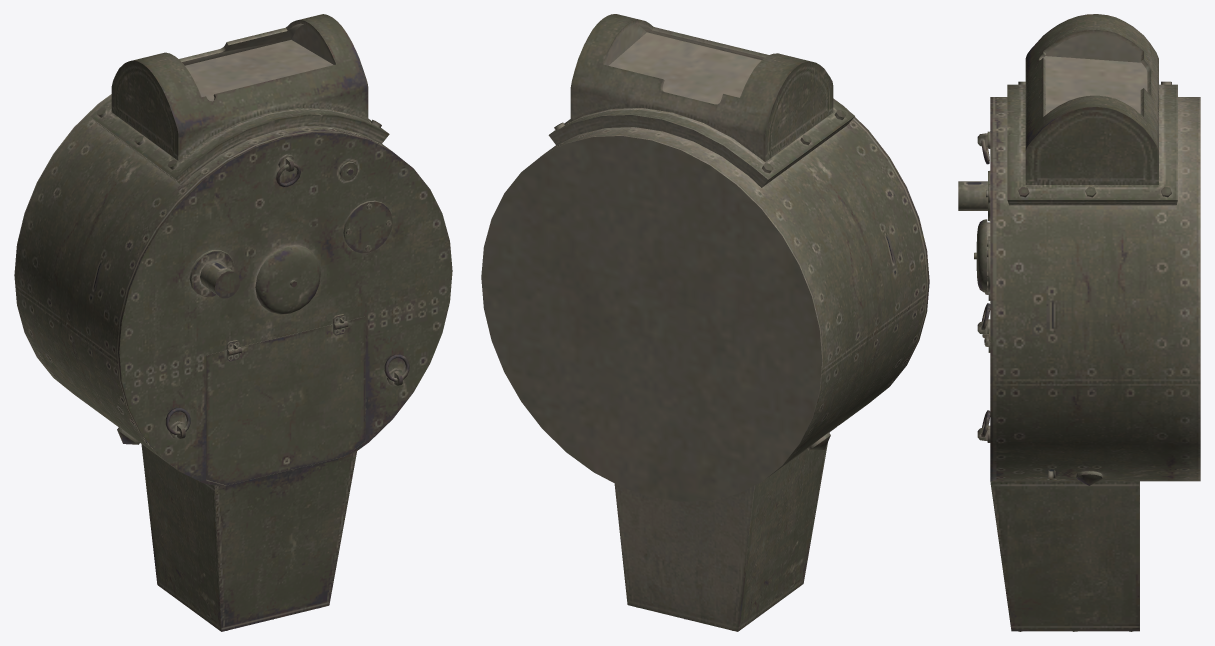
The model's file is Turret_02.glb.
3 renders of one model, left to right at view 1: azimuth 30°, elevation 25°; view 2: azimuth 150°, elevation 25°; view 3: azimuth 270°, elevation 25°, orthographic. The views are drawn at different scales.
Parts seen in each view (by area): view 1: set_0_group_0; view 2: set_0_group_0; view 3: set_0_group_0.
Boxes of the visible parts, bbox=[...] form: set_0_group_0: bbox=[14, 14, 452, 631]; set_0_group_0: bbox=[481, 14, 929, 631]; set_0_group_0: bbox=[958, 14, 1200, 631].
Size of the model in its own units: 1.17 by 1.84 by 0.7342.
1 material, 1 textured.
